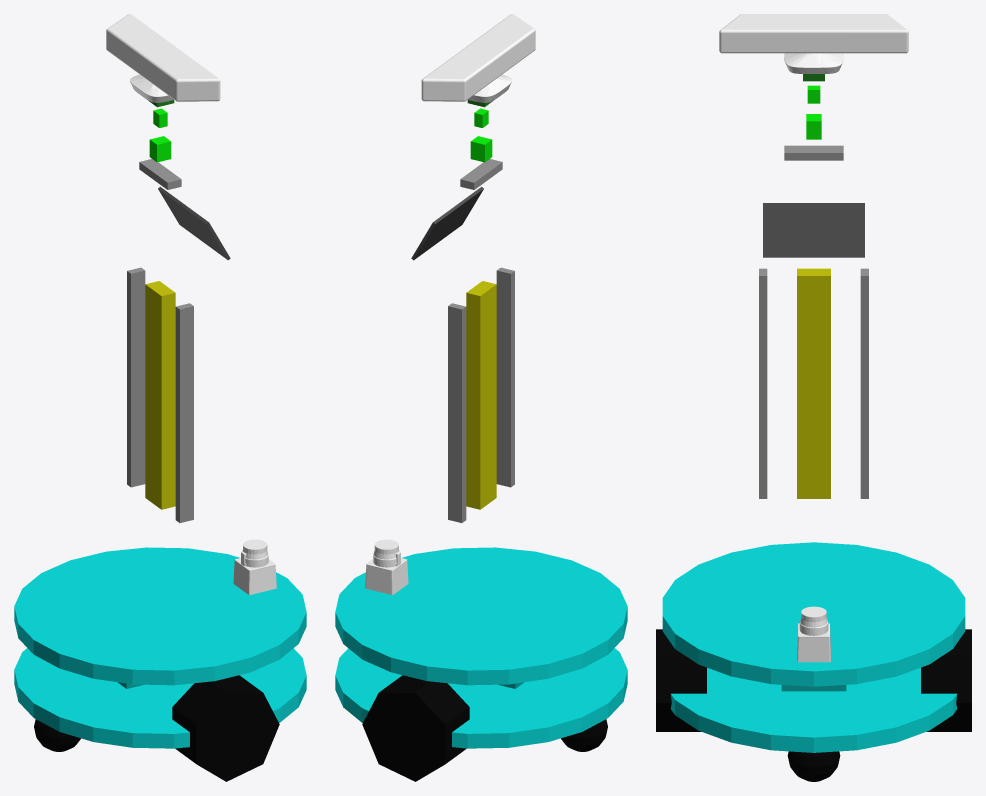
The model's file is mybot.dae.
3 views of the same model, side by side, from view 1: azimuth 30°, elevation 25°; view 2: azimuth 150°, elevation 25°; view 3: azimuth 270°, elevation 25° (orthographic). The views are drawn at different scales.
Parts seen in each view (by area): view 1: upper_base_link, base_link, wheel_2, torso_link, camera_link, left_torso_link, right_torso_link, laser, screen_link, wheel_3, top_torso_link, head_pan_link; view 2: upper_base_link, base_link, wheel_4, torso_link, camera_link, right_torso_link, left_torso_link, laser, screen_link, wheel_3, top_torso_link, head_pan_link; view 3: upper_base_link, base_link, camera_link, torso_link, screen_link, wheel_2, wheel_4, left_torso_link, right_torso_link, laser, wheel_1, top_torso_link.
Boxes of the visible parts, x1,y1,x2,y2 form: upper_base_link: (14,547,306,685); base_link: (14,648,306,748); wheel_2: (172,675,279,781); torso_link: (145,281,175,509); camera_link: (106,14,220,102); left_torso_link: (127,267,145,487); right_torso_link: (175,303,193,522); laser: (233,539,276,594); screen_link: (158,186,230,260); wheel_3: (34,719,80,751); top_torso_link: (139,159,181,189); head_pan_link: (149,136,171,162); upper_base_link: (335,547,627,685); base_link: (335,648,627,748); wheel_4: (362,675,469,781); torso_link: (466,281,496,509); camera_link: (421,14,535,102); right_torso_link: (496,267,514,487); left_torso_link: (448,303,466,522); laser: (365,539,408,594); screen_link: (411,186,483,260); wheel_3: (561,719,607,751); top_torso_link: (460,159,502,189); head_pan_link: (470,136,492,162); upper_base_link: (662,542,965,686); base_link: (670,667,957,752); camera_link: (719,14,908,73); torso_link: (797,268,830,498); screen_link: (763,203,864,257); wheel_2: (656,629,706,731); wheel_4: (921,629,971,731); left_torso_link: (860,268,868,498); right_torso_link: (759,268,767,498); laser: (797,606,830,662); wheel_1: (787,751,840,781); top_torso_link: (784,145,843,160).
Bounding box in the file's own units: 0.45 × 0.465 × 1.15.
